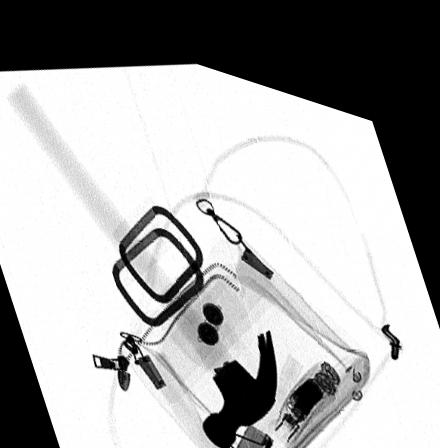Hammer: (6, 81, 277, 434)
